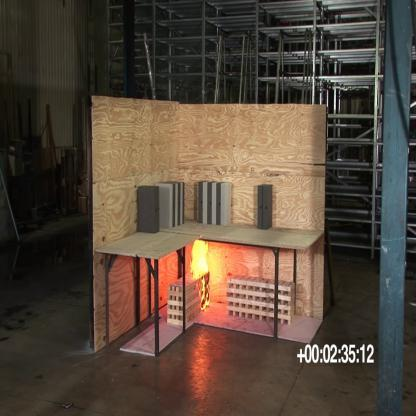fire: (169, 231, 229, 319)
